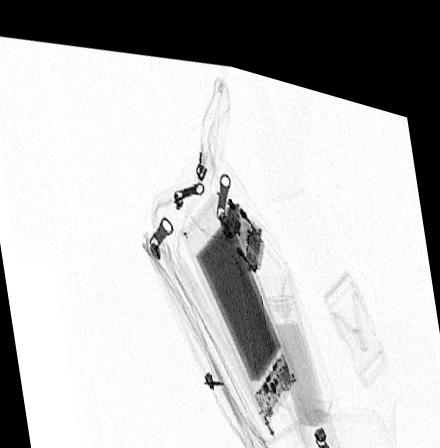Powerbank: (180, 176, 298, 412)
